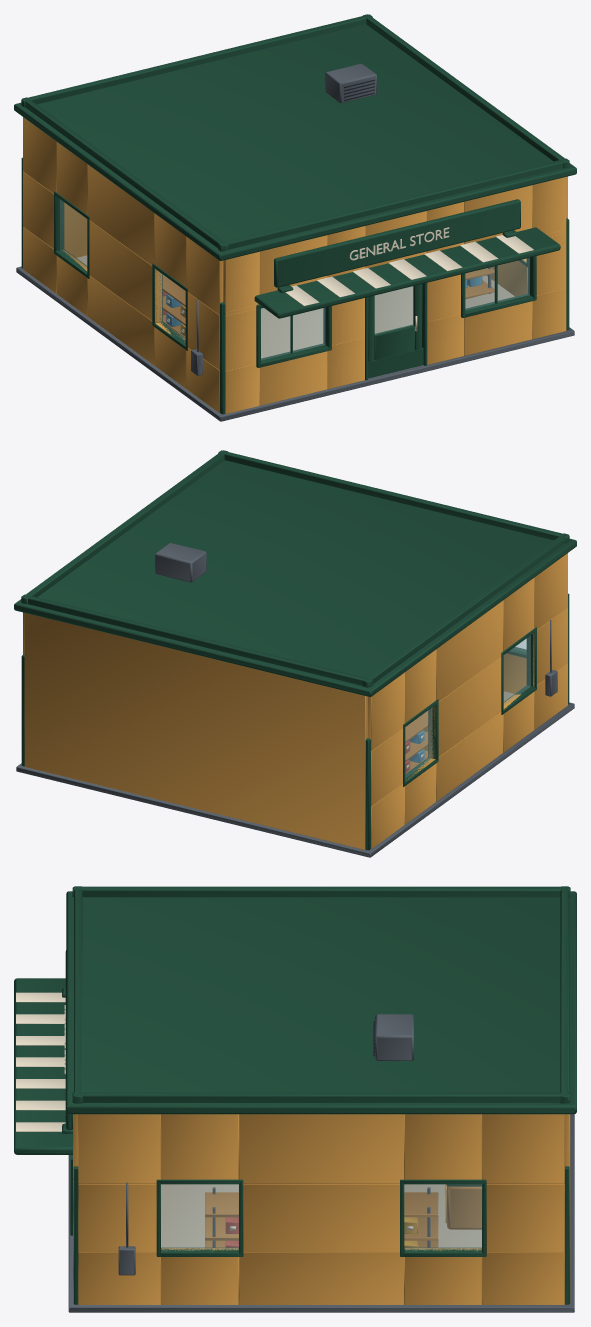
The model's file is store.glb.
3 views of the same model, one above another, from view 1: azimuth 30°, elevation 25°; view 2: azimuth 150°, elevation 25°; view 3: azimuth 270°, elevation 25° (orthographic). The views are drawn at different scales.
Visible parts, largest first — view 1: roof_0_trim, shell_0_wall, shell_0_trim, glass_0_glass, shell_0_metal, shell_0_floor, shell_0_ivory, door_0_trim, door_0_glass, roof_0_metal, interior_0_wood.002; view 2: shell_0_wall, roof_0_trim, shell_0_metal, shell_0_trim, glass_0_glass, roof_0_metal, interior_0_wood.002; view 3: roof_0_trim, shell_0_wall, shell_0_trim, glass_0_glass, shell_0_metal, interior_0_wood.002, shell_0_floor, shell_0_ivory, roof_0_metal.
Part boxes in pixels (left/top/right/bottom): roof_0_trim: left=14, top=14, right=576, bottom=260; shell_0_wall: left=23, top=117, right=567, bottom=413; shell_0_trim: left=21, top=157, right=569, bottom=414; glass_0_glass: left=60, top=199, right=529, bottom=360; shell_0_metal: left=16, top=266, right=574, bottom=421; shell_0_floor: left=77, top=255, right=514, bottom=358; shell_0_ivory: left=285, top=227, right=533, bottom=306; door_0_trim: left=368, top=284, right=422, bottom=361; door_0_glass: left=375, top=286, right=413, bottom=334; roof_0_metal: left=325, top=63, right=376, bottom=103; interior_0_wood.002: left=162, top=268, right=494, bottom=337; shell_0_wall: left=23, top=553, right=567, bottom=849; roof_0_trim: left=14, top=450, right=576, bottom=696; shell_0_metal: left=16, top=620, right=574, bottom=857; shell_0_trim: left=21, top=593, right=569, bottom=850; glass_0_glass: left=405, top=636, right=530, bottom=777; roof_0_metal: left=155, top=543, right=206, bottom=582; interior_0_wood.002: left=405, top=711, right=428, bottom=773; roof_0_trim: left=66, top=886, right=576, bottom=1114; shell_0_wall: left=73, top=1114, right=570, bottom=1304; shell_0_trim: left=14, top=950, right=569, bottom=1304; glass_0_glass: left=161, top=1184, right=481, bottom=1249; shell_0_metal: left=68, top=1114, right=574, bottom=1312; interior_0_wood.002: left=205, top=1186, right=481, bottom=1247; shell_0_floor: left=161, top=1184, right=481, bottom=1247; shell_0_ivory: left=16, top=992, right=65, bottom=1131; roof_0_metal: left=375, top=1014, right=413, bottom=1060.
Size of the model in its own units: 10.58 by 5.29 by 11.57.
